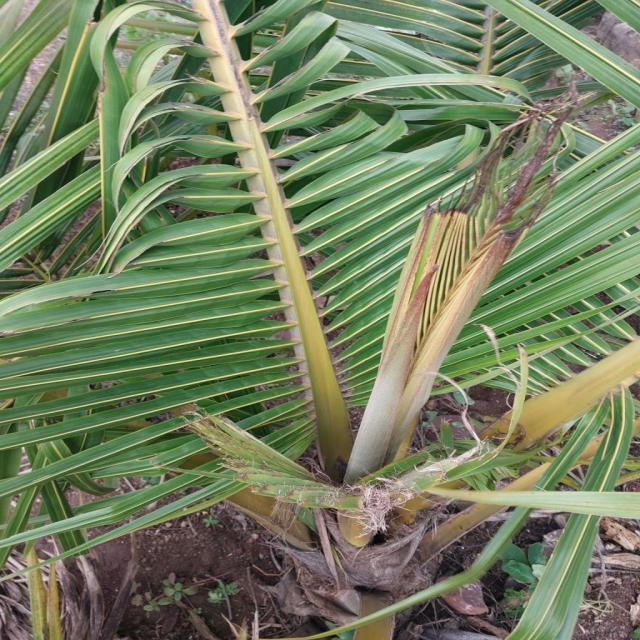bud rot: (345, 91, 577, 481)
